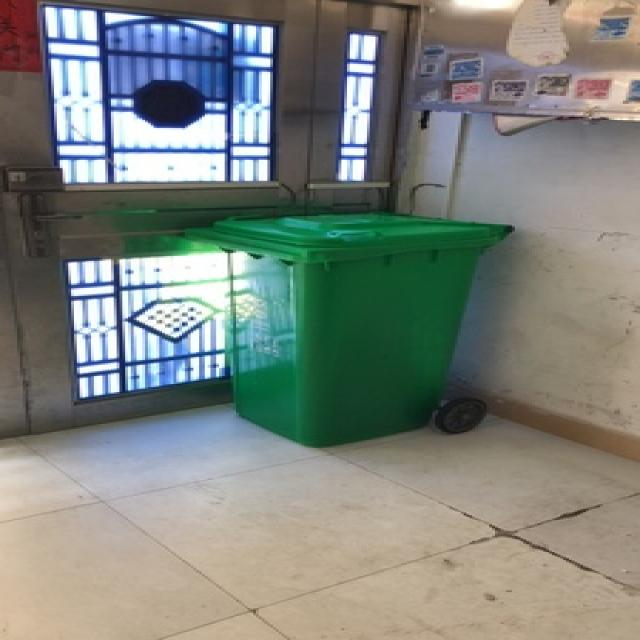ash bin: (196, 210, 515, 450)
